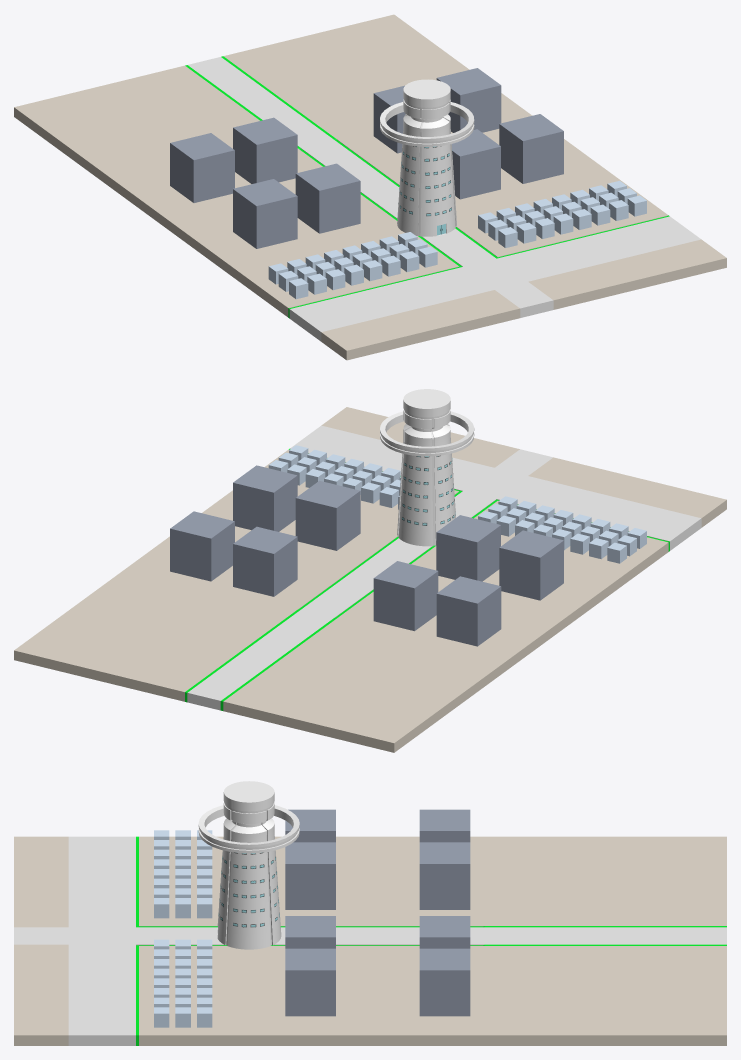
The model's file is Town.fbx.
3 renders of one model, top to bottom at view 1: azimuth 30°, elevation 25°; view 2: azimuth 150°, elevation 25°; view 3: azimuth 270°, elevation 25°, orthographic. The views are drawn at different scales.
Visible parts, largest first — view 1: Ground, Labo_Sub, House, Labo; view 2: Ground, Labo_Sub, House, Labo; view 3: Ground, Labo_Sub, Labo, House.
Boxes of the visible parts, box(x1,y1,x2,y2) form: Ground: box(14, 14, 726, 360); Labo_Sub: box(170, 68, 563, 248); House: box(268, 180, 646, 299); Labo: box(380, 79, 474, 236); Ground: box(14, 407, 726, 752); Labo_Sub: box(170, 465, 563, 646); House: box(268, 445, 646, 563); Labo: box(380, 389, 474, 546); Ground: box(14, 836, 726, 1045); Labo_Sub: box(285, 809, 470, 1016); Labo: box(198, 781, 299, 949); House: box(154, 830, 212, 1027).
Bounding box in the file's own units: 1852 × 672 × 2808.
6 materials, 6 textured.
